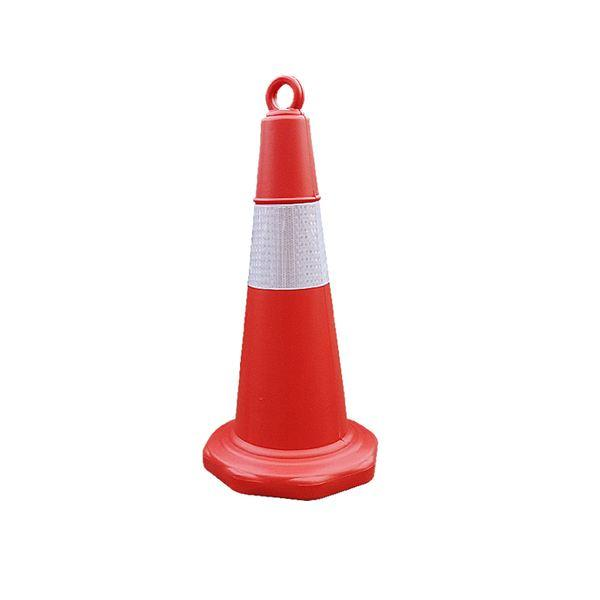sign: (199, 68, 381, 505)
